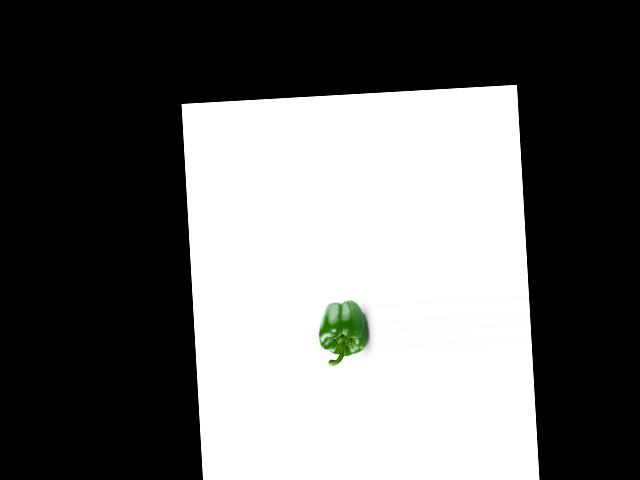bell_pepper: (316, 297, 369, 367)
